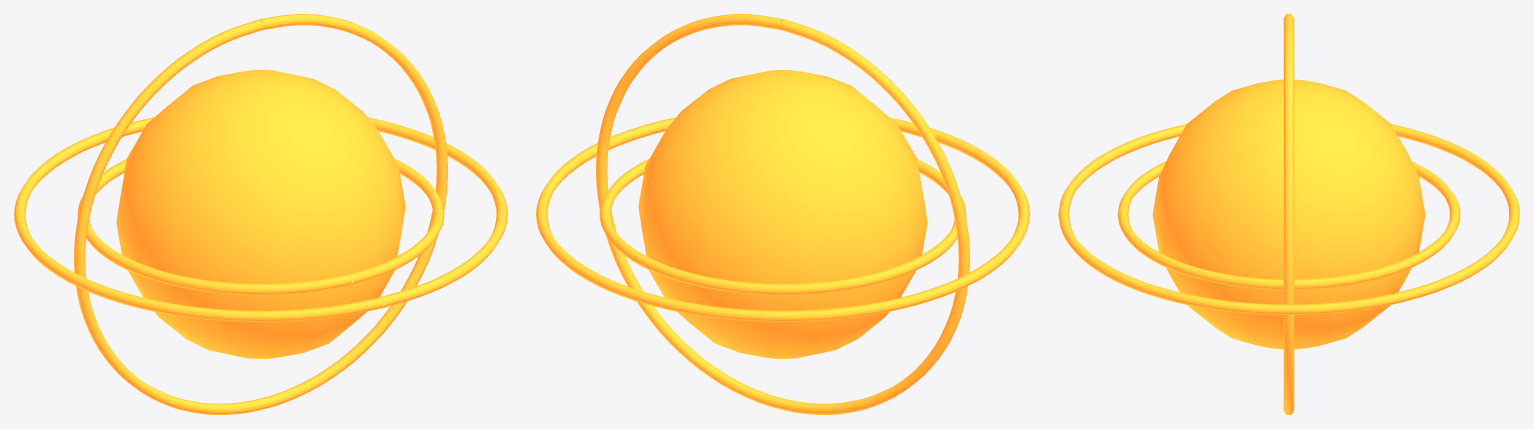
Rendered from ability-5-refined-v15.fbx.
3 views of the same model, side by side, from view 1: azimuth 30°, elevation 25°; view 2: azimuth 150°, elevation 25°; view 3: azimuth 270°, elevation 25° (orthographic). The views are drawn at different scales.
Parts seen in each view (by area): view 1: EnergyCore.002, EnergyOrbit.007, EnergyOrbit.008, EnergyOrbit.006; view 2: EnergyCore.002, EnergyOrbit.007, EnergyOrbit.008, EnergyOrbit.006; view 3: EnergyCore.002, EnergyOrbit.008, EnergyOrbit.006, EnergyOrbit.007.
Boxes of the visible parts, box(x1,y1,x2,y2) form: EnergyCore.002: box(116, 69, 405, 359); EnergyOrbit.007: box(74, 14, 447, 414); EnergyOrbit.008: box(14, 117, 507, 321); EnergyOrbit.006: box(77, 159, 444, 295); EnergyCore.002: box(638, 69, 927, 359); EnergyOrbit.007: box(596, 14, 969, 414); EnergyOrbit.008: box(536, 117, 1029, 321); EnergyOrbit.006: box(599, 159, 966, 295); EnergyCore.002: box(1152, 79, 1425, 349); EnergyOrbit.008: box(1058, 124, 1519, 314); EnergyOrbit.006: box(1117, 161, 1460, 289); EnergyOrbit.007: box(1283, 14, 1294, 414).
Size of the model in its own units: 77.8 by 67.56 by 77.8.
